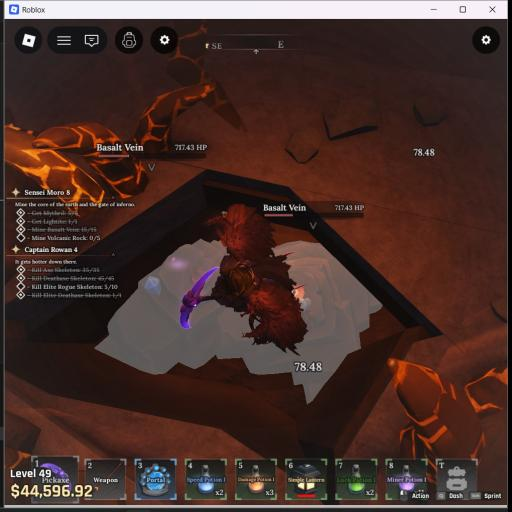player: (181, 204, 307, 355)
rock: (96, 239, 381, 402)
